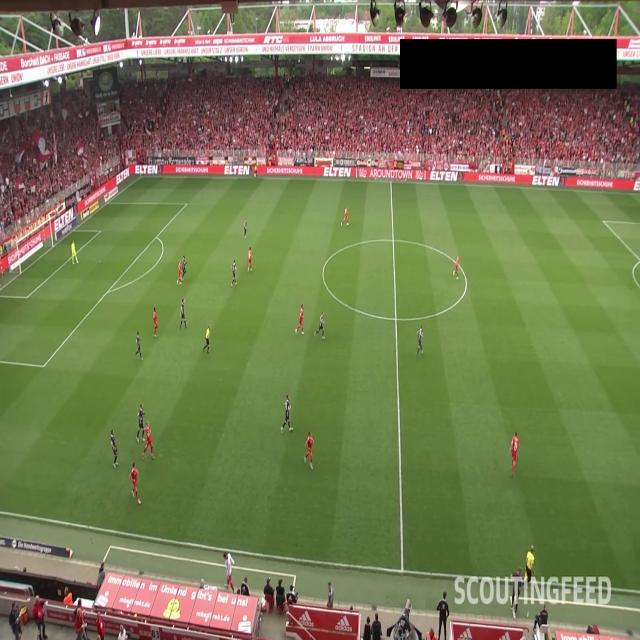goalkeeper: (71, 239, 79, 264)
player: (280, 394, 294, 434), (129, 461, 141, 505), (142, 420, 154, 460), (510, 430, 520, 478), (303, 431, 314, 469), (136, 403, 146, 443), (110, 428, 118, 468), (178, 254, 187, 284), (315, 312, 325, 339), (416, 326, 424, 358), (180, 298, 188, 330), (296, 304, 304, 335), (135, 332, 143, 361), (453, 255, 460, 279), (341, 206, 349, 227), (231, 259, 237, 286), (177, 258, 183, 284), (153, 307, 158, 338), (248, 247, 252, 272), (243, 219, 247, 237)
referee: (525, 545, 535, 584), (203, 324, 211, 353), (253, 163, 258, 180)
